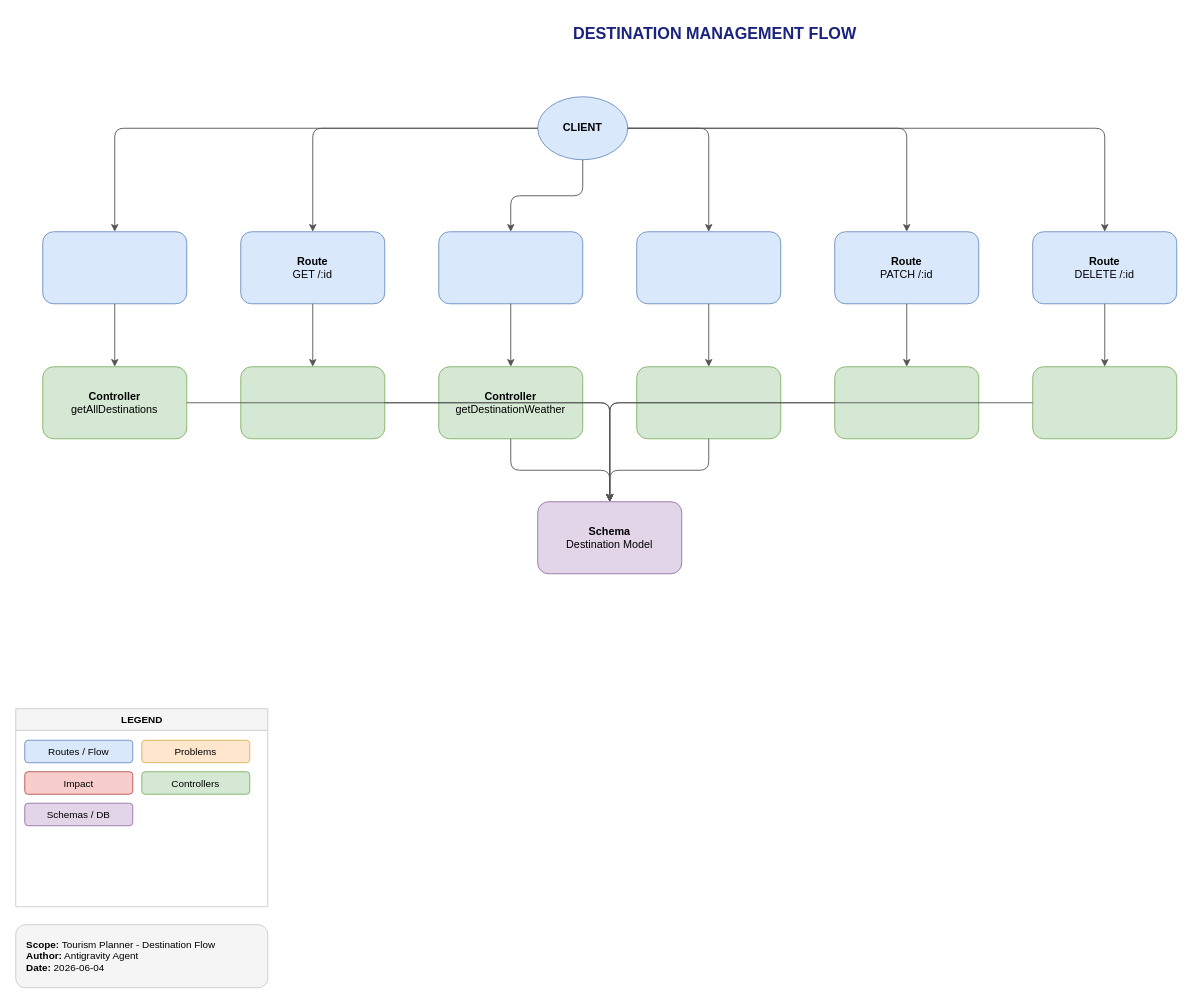
The diagram is 1193 pixels wide and 1004 high, and some of its shapes have lost their labels. The shapes that lost their labels are listed below. From the top down, each one's centre as x and y in pixels, then its label:
At point 114,267: "Route GET /destinations".
At point 510,267: "Route GET /:id/weather".
At point 708,267: "Route POST /".
At point 312,402: "Controller getDestinationById".
At point 708,402: "Controller createDestination".
At point 906,402: "Controller updateDestinationById".
At point 1104,402: "Controller deleteDestinationById".
